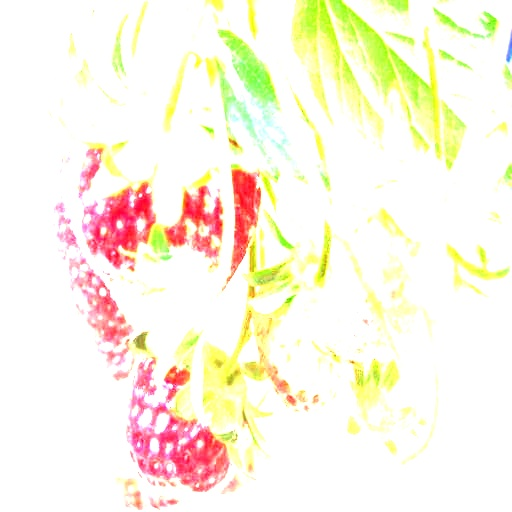Powdery Mildew Fruit: (67, 83, 226, 337), (320, 161, 492, 363), (49, 144, 141, 384), (124, 337, 238, 479)
